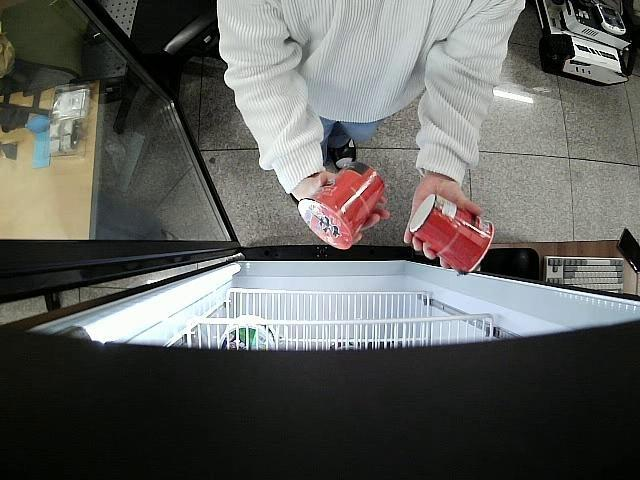02_shinRamen_S: (296, 156, 385, 252), (408, 192, 495, 276)
